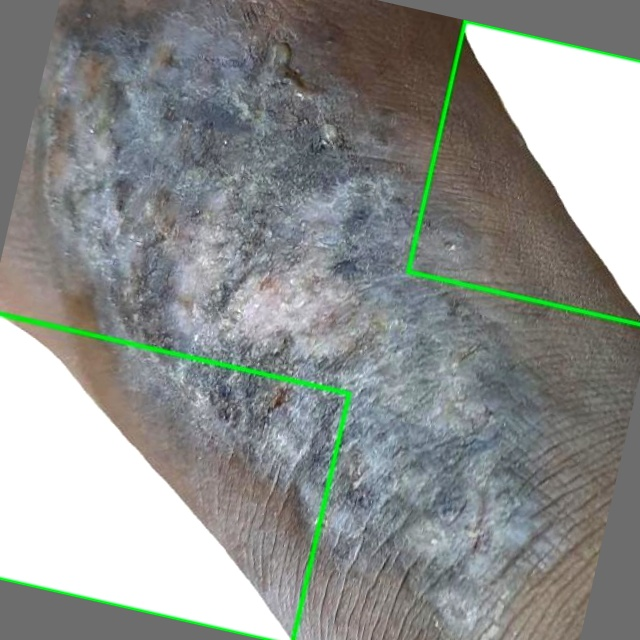Contact Dermatitis: (0, 314, 349, 639), (408, 21, 639, 324)
